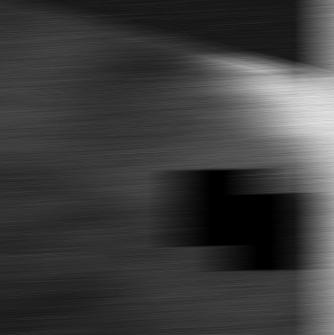Airbag: (0, 1, 334, 335), (318, 0, 334, 335)
